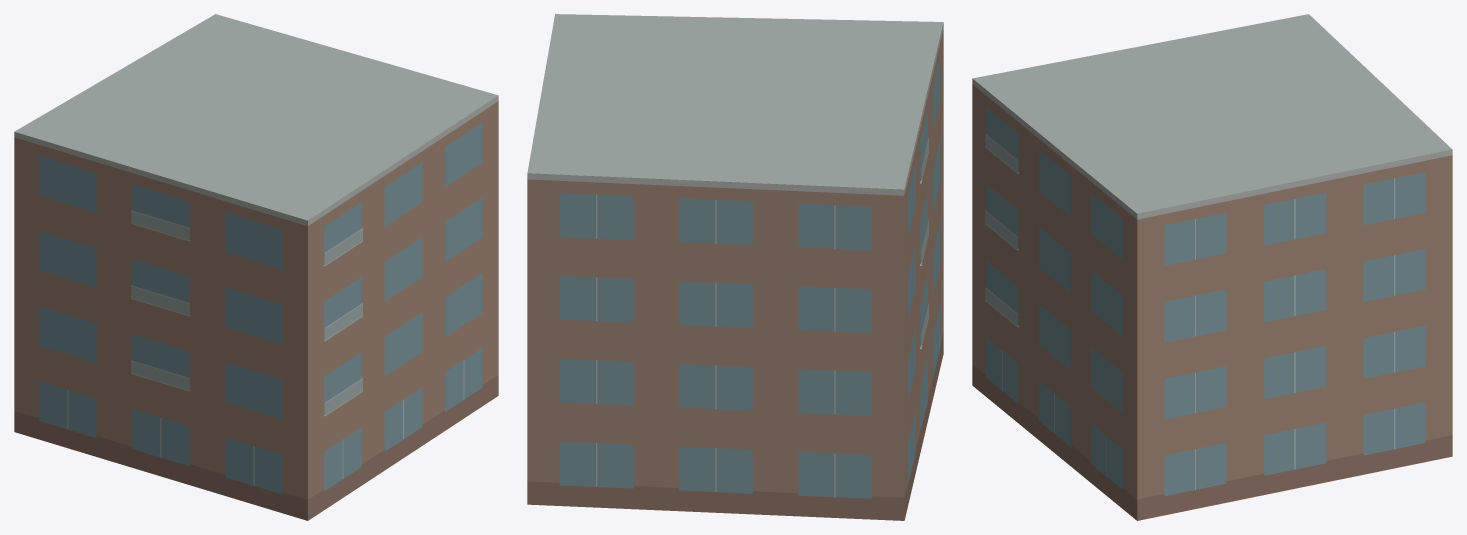
The model's file is survey-upis-32973662.glb.
3 views of the same model, side by side, from view 1: azimuth 30°, elevation 25°; view 2: azimuth 150°, elevation 25°; view 3: azimuth 270°, elevation 25° (orthographic). The views are drawn at different scales.
Visible parts, largest first — view 1: survey-upis-32973662.tmp; view 2: survey-upis-32973662.tmp; view 3: survey-upis-32973662.tmp.
Part boxes in pixels (left/top/right/bottom): survey-upis-32973662.tmp: left=14, top=14, right=498, bottom=520; survey-upis-32973662.tmp: left=527, top=14, right=943, bottom=520; survey-upis-32973662.tmp: left=972, top=14, right=1452, bottom=520.
Bounding box in the file's own units: 18.3 × 13.1 × 18.58.
